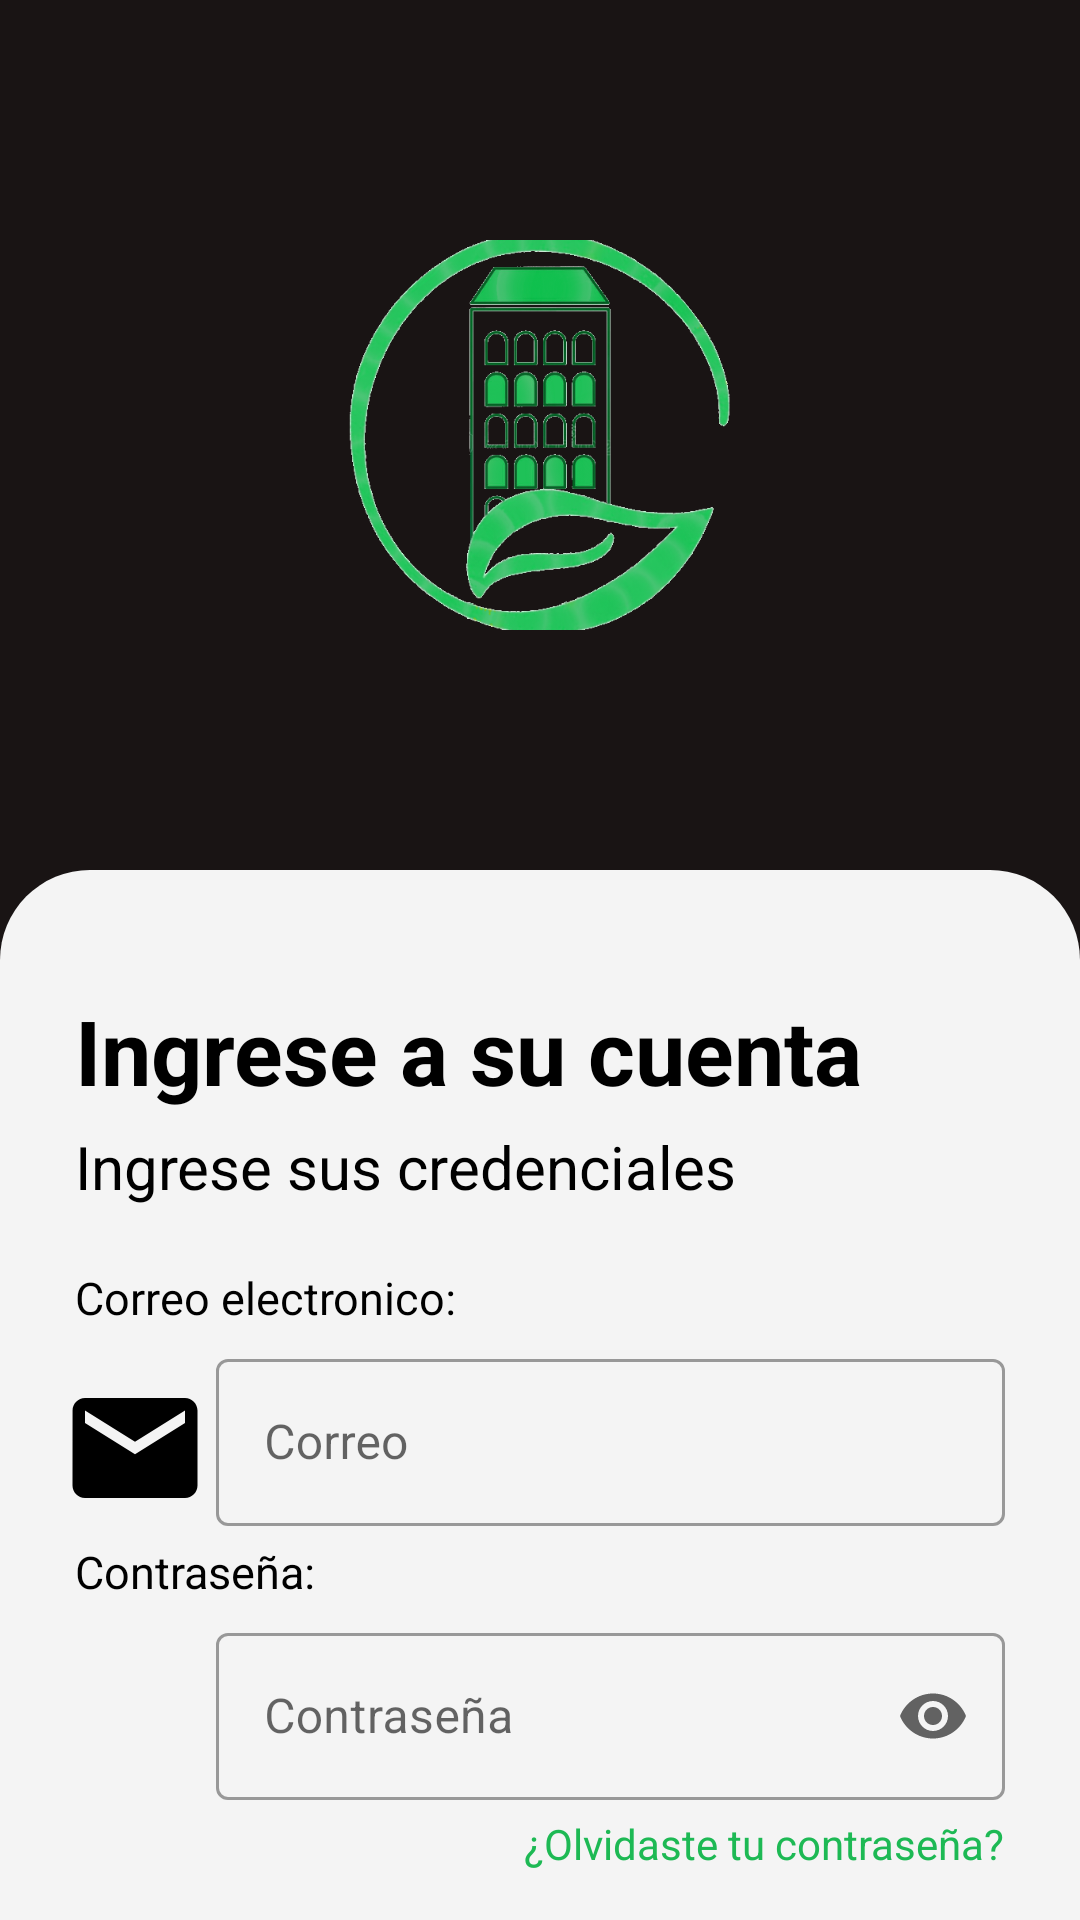

Named icons in this screenshot (1080x1920) and their centers, (x=x, y=y):
email: (x=135, y=1448)
